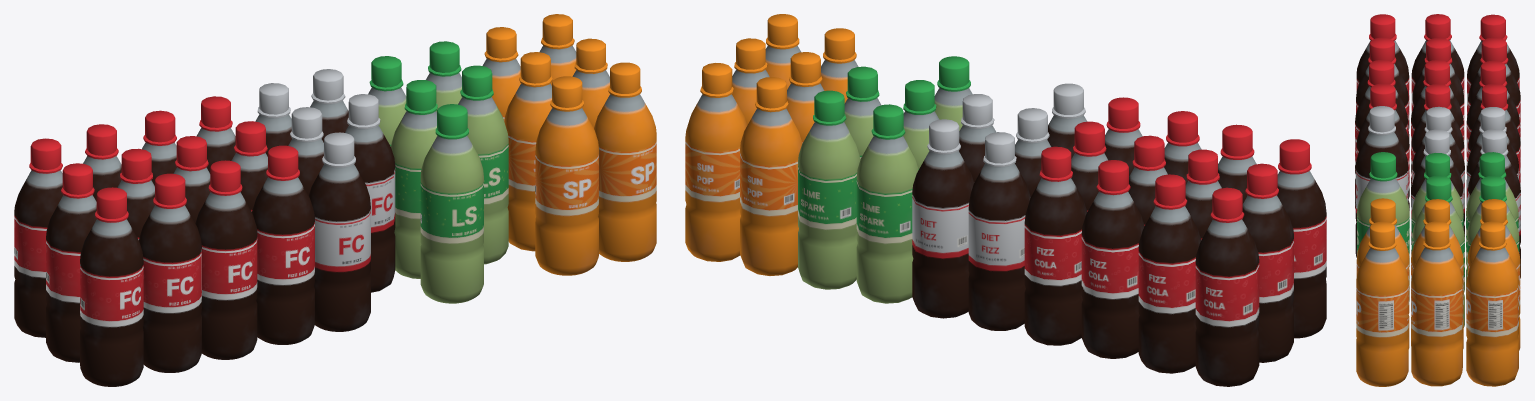
The model's file is SM_Stock_CoolerRow_Soda.glb.
3 views of the same model, side by side, from view 1: azimuth 30°, elevation 25°; view 2: azimuth 150°, elevation 25°; view 3: azimuth 270°, elevation 25° (orthographic). The views are drawn at different scales.
Parts seen in each view (by area): view 1: SM_Stock_CoolerRow_Soda; view 2: SM_Stock_CoolerRow_Soda; view 3: SM_Stock_CoolerRow_Soda.
Boxes of the visible parts, bbox=[...] form: SM_Stock_CoolerRow_Soda: bbox=[14, 14, 656, 386]; SM_Stock_CoolerRow_Soda: bbox=[685, 14, 1326, 386]; SM_Stock_CoolerRow_Soda: bbox=[1355, 14, 1520, 386].
Size of the model in its own units: 0.6891 by 0.2125 by 0.2099.
Materials: 1 (1 with a texture image).
